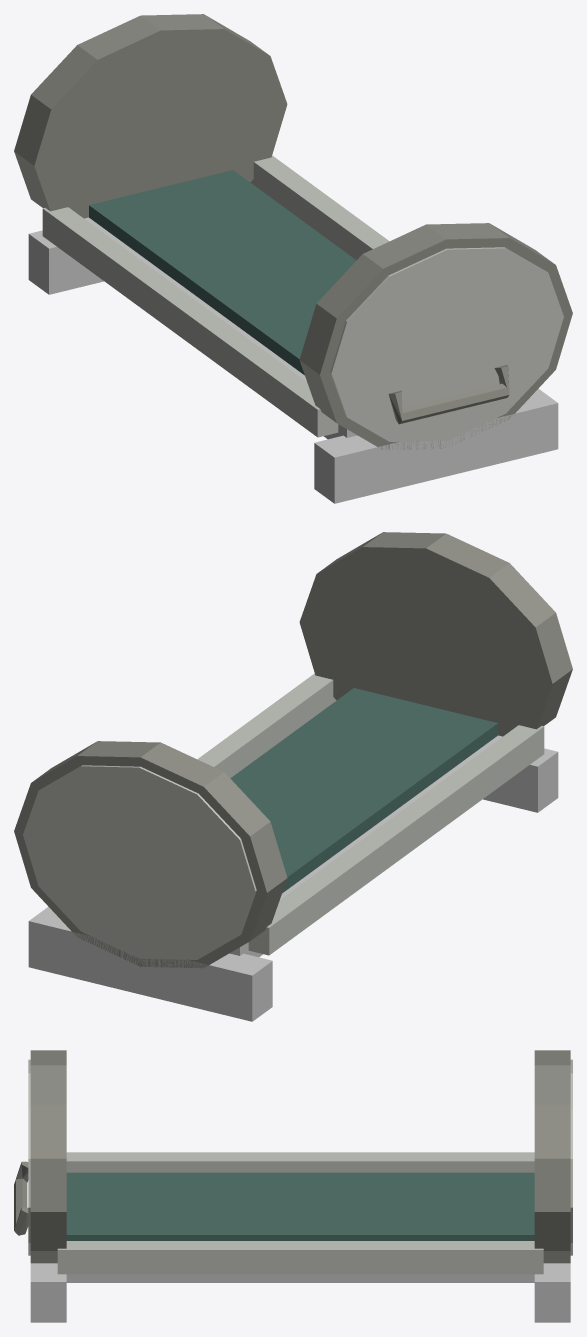
The model's file is growth_vat.obj.
The picture shows the model from 3 angles, top to bottom: view 1: azimuth 30°, elevation 25°; view 2: azimuth 150°, elevation 25°; view 3: azimuth 270°, elevation 25°; orthographic projection. The views are drawn at different scales.
Visible parts, largest first — view 1: growth_vat; view 2: growth_vat; view 3: growth_vat.
Boxes of the visible parts, <box> form: growth_vat: <box>14,14,572,503</box>; growth_vat: <box>14,532,572,1021</box>; growth_vat: <box>14,1050,572,1322</box>.
Size of the model in its own units: 0.86 by 0.77 by 1.86.
